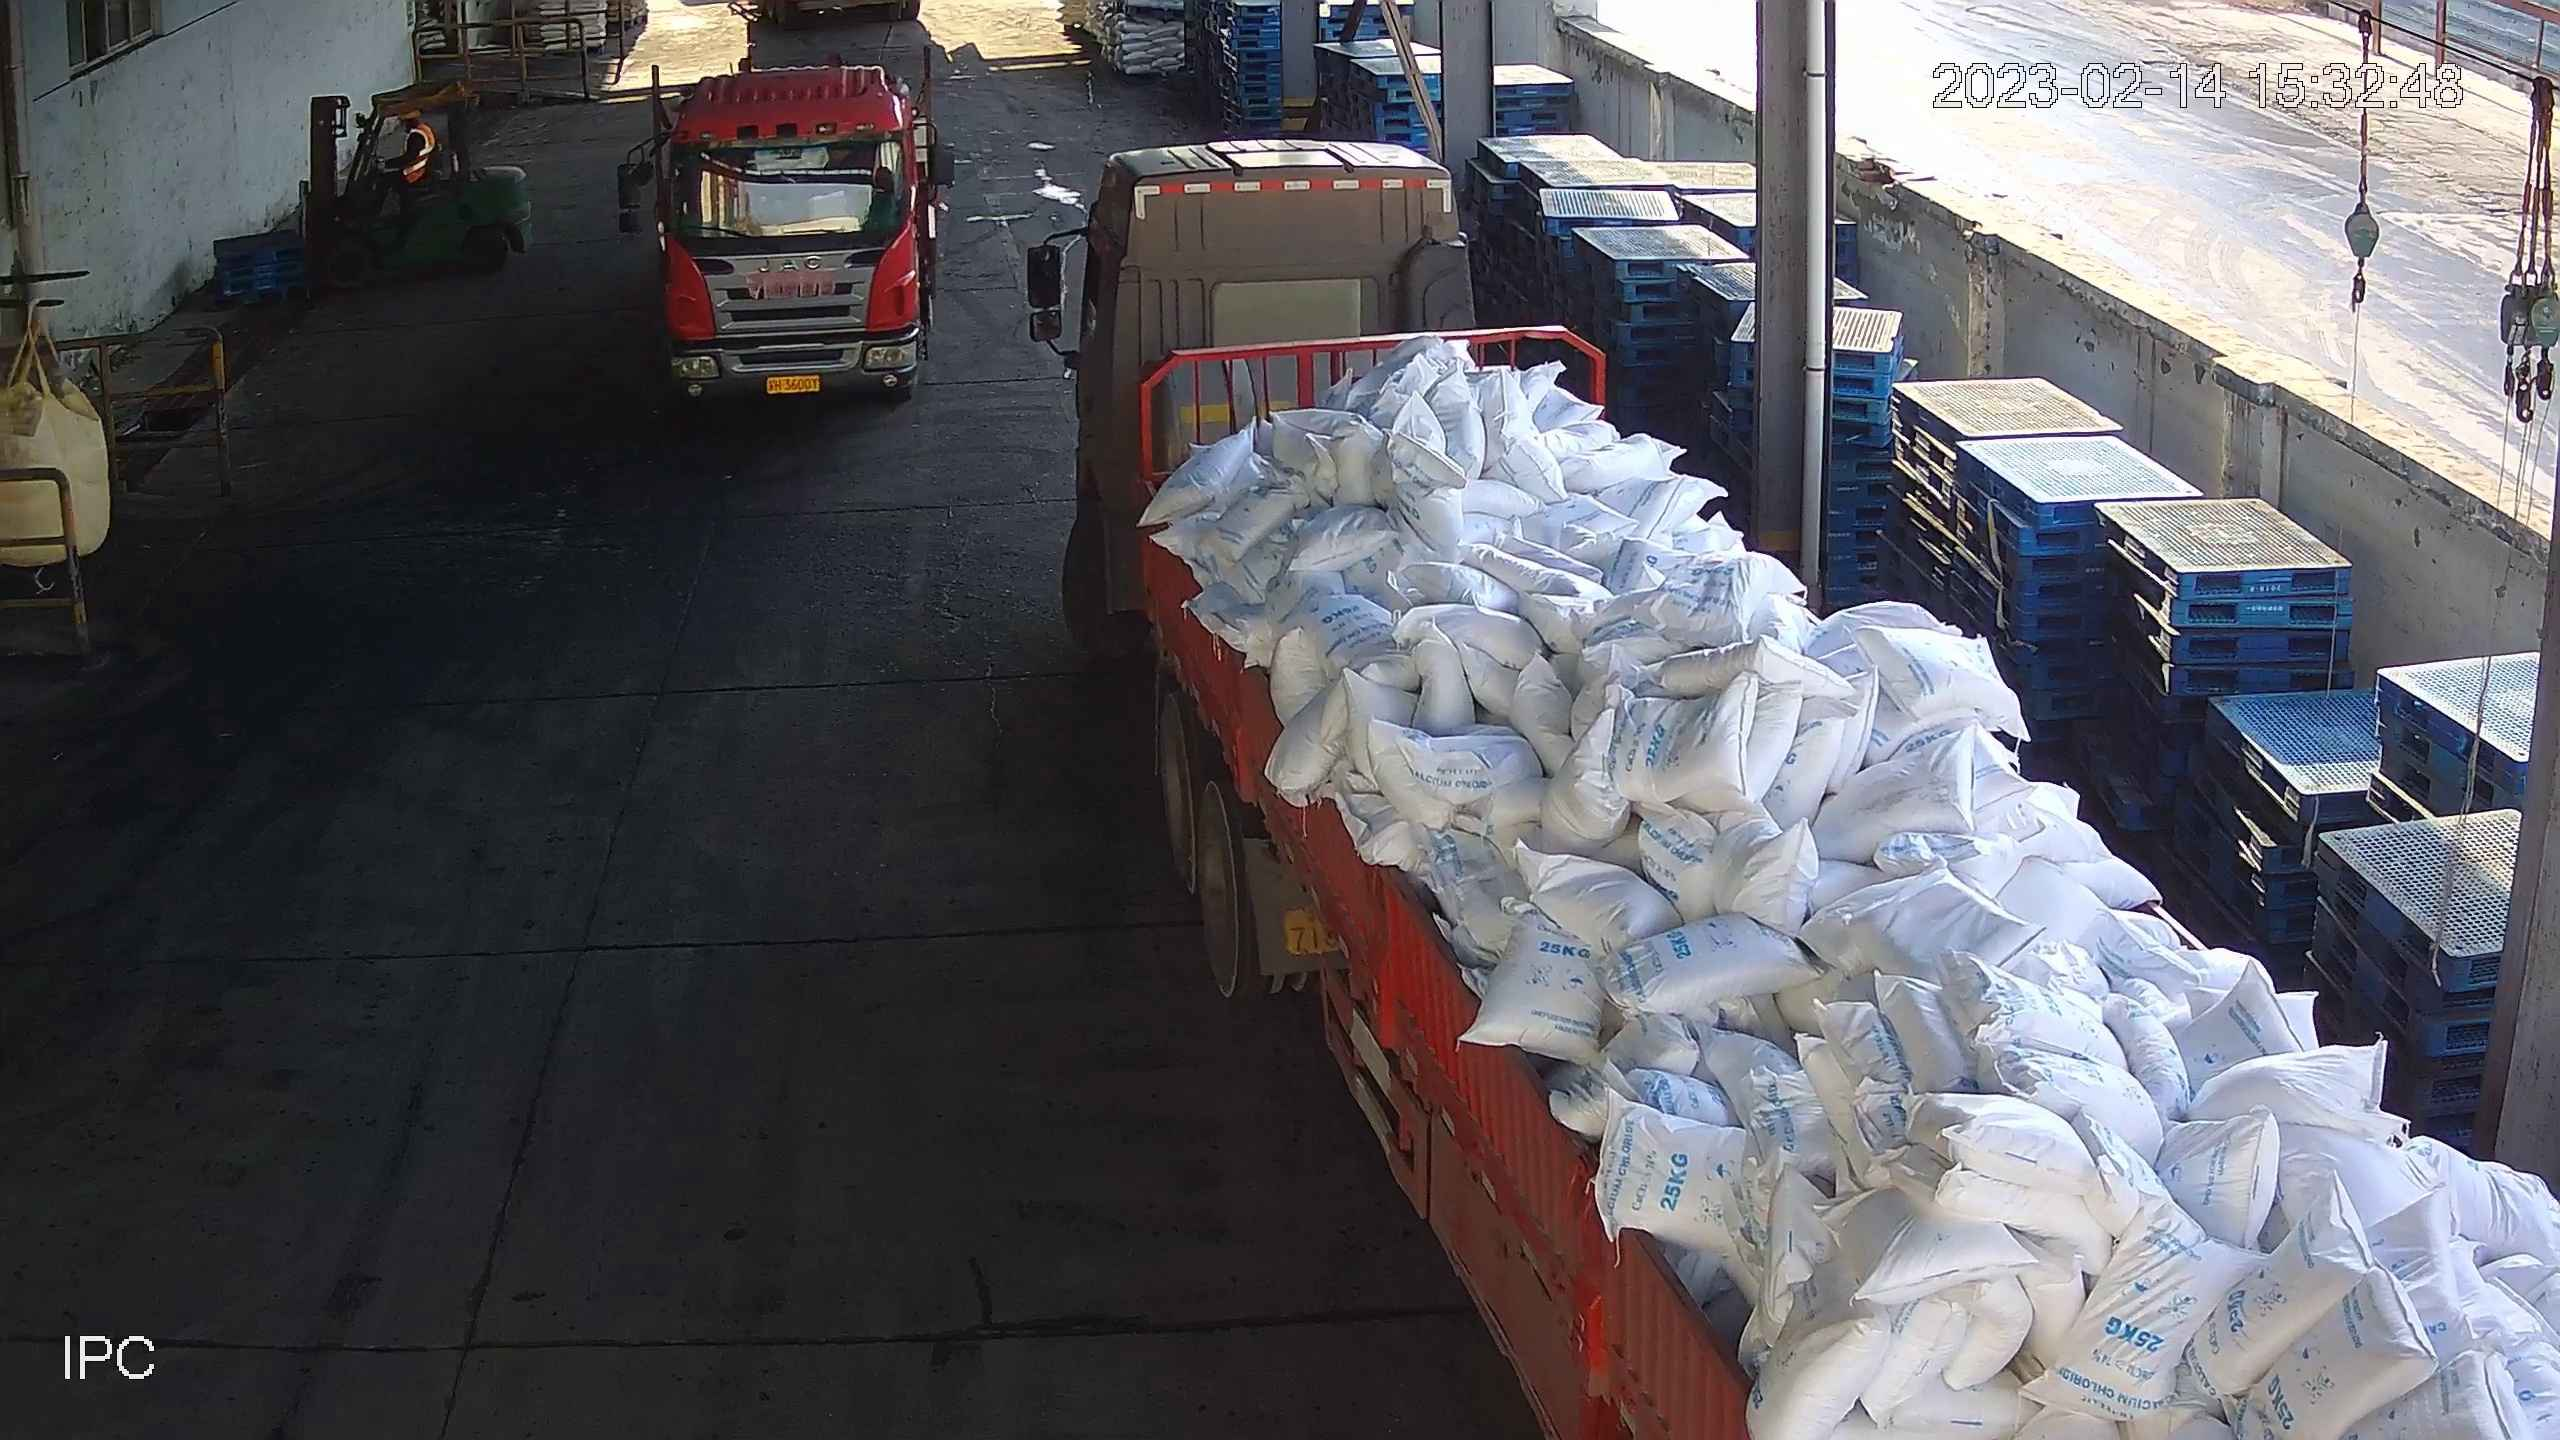truck: (1006, 141, 2560, 1440), (617, 5, 956, 418)
